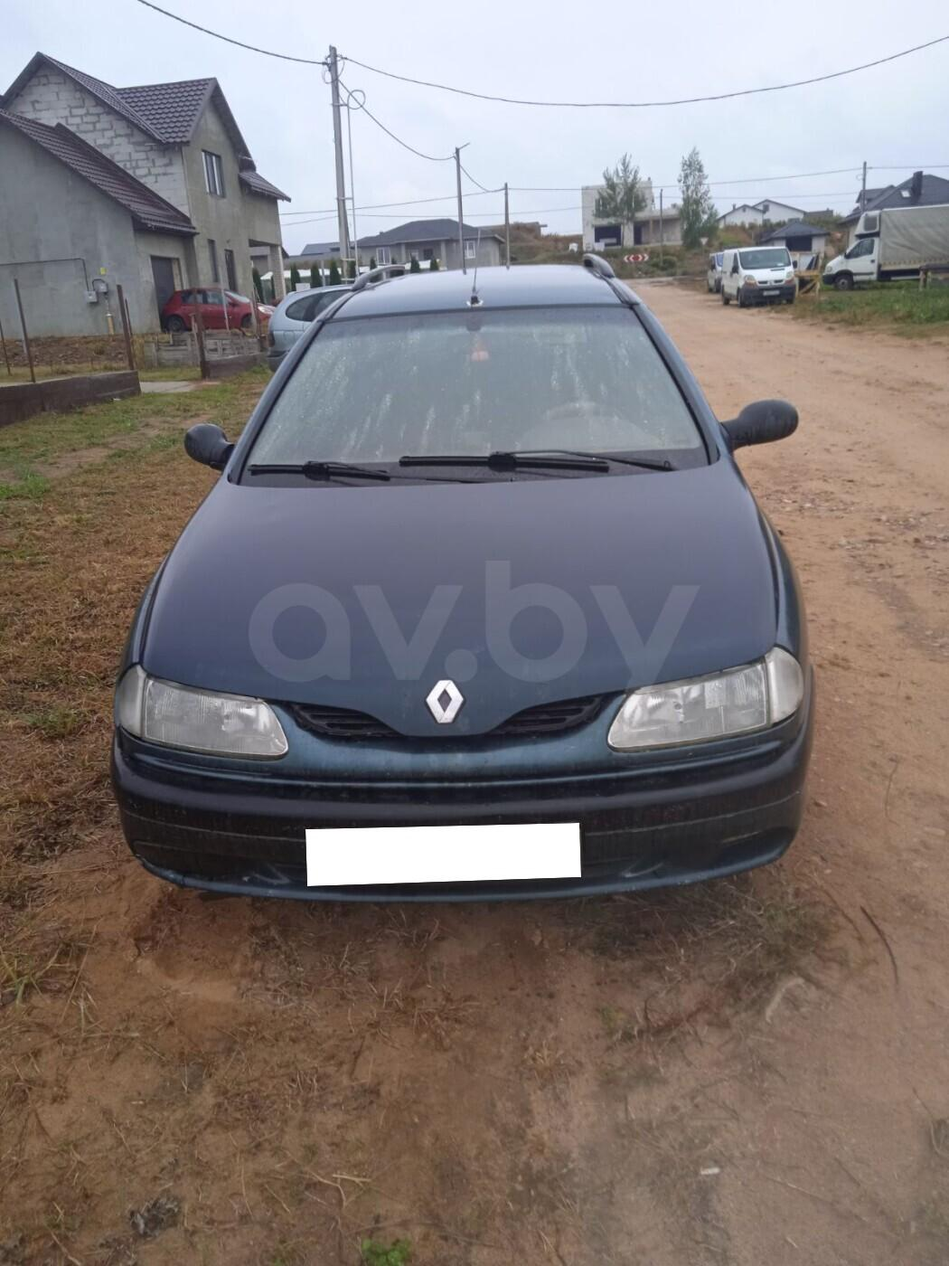Lahuna_1993-1999: (81, 255, 826, 908)
